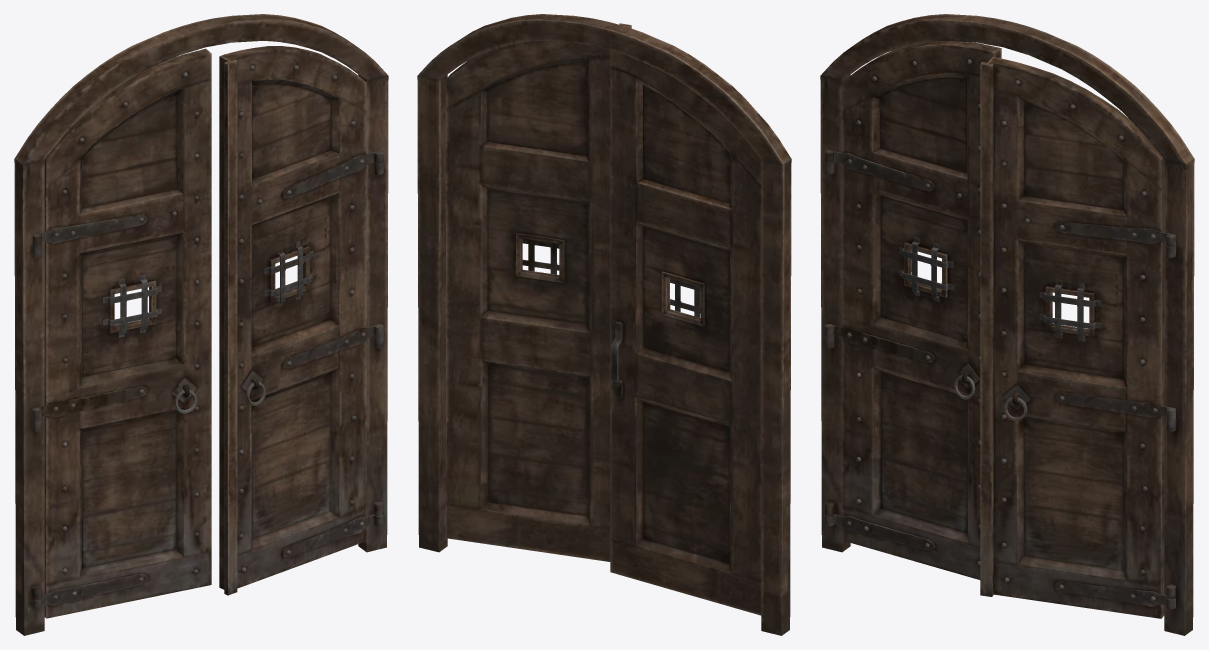
The model's file is large_castle_door.glb.
3 renders of one model, left to right at view 1: azimuth 30°, elevation 25°; view 2: azimuth 150°, elevation 25°; view 3: azimuth 330°, elevation 25°, orthographic.
Parts seen in each view (by area): view 1: large_castle_door_left, large_castle_door_right, large_castle_door_frame; view 2: large_castle_door_right, large_castle_door_left, large_castle_door_frame; view 3: large_castle_door_right, large_castle_door_left, large_castle_door_frame.
Part boxes in pixels (bbox=[...]): large_castle_door_left: bbox=[32, 48, 211, 618]; large_castle_door_right: bbox=[219, 46, 383, 595]; large_castle_door_frame: bbox=[14, 14, 388, 635]; large_castle_door_right: bbox=[446, 23, 631, 561]; large_castle_door_left: bbox=[610, 50, 761, 615]; large_castle_door_frame: bbox=[417, 14, 791, 635]; large_castle_door_right: bbox=[980, 57, 1175, 618]; large_castle_door_left: bbox=[824, 41, 1001, 579]; large_castle_door_frame: bbox=[820, 14, 1194, 635].
Size of the model in its own units: 2.01 by 2.96 by 0.2963.
Materials: 1 (1 with a texture image).
